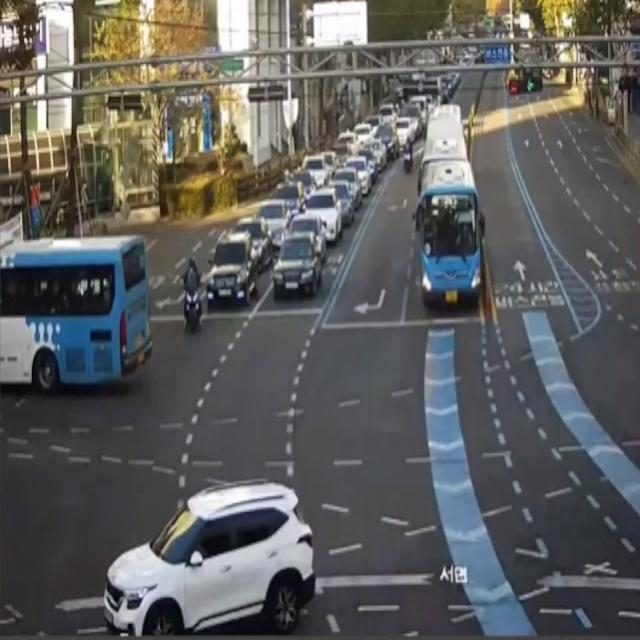bus: (178, 246, 206, 343), (400, 128, 416, 176)
car: (0, 193, 166, 422), (414, 156, 489, 318)
motorcycle: (83, 472, 344, 640), (202, 214, 263, 315), (269, 223, 327, 308)
